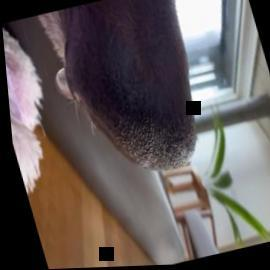nasal_discharge: (36, 52, 104, 129)
